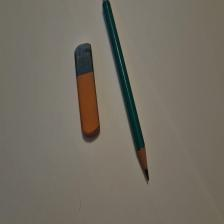eraser: (76, 43, 102, 138)
pencil: (104, 1, 151, 182)
